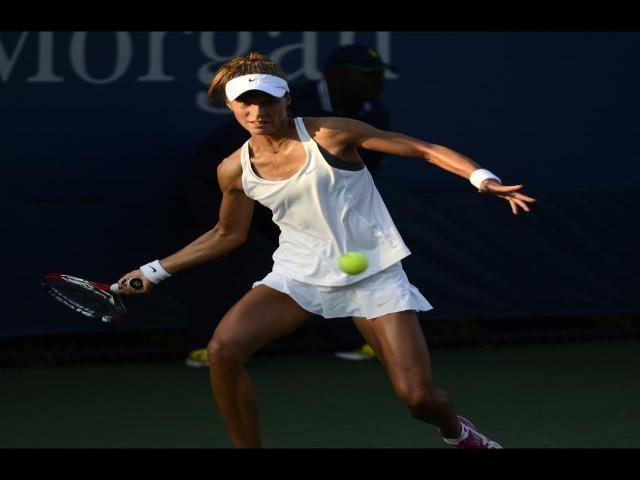tennis-ball: (337, 252, 369, 274)
